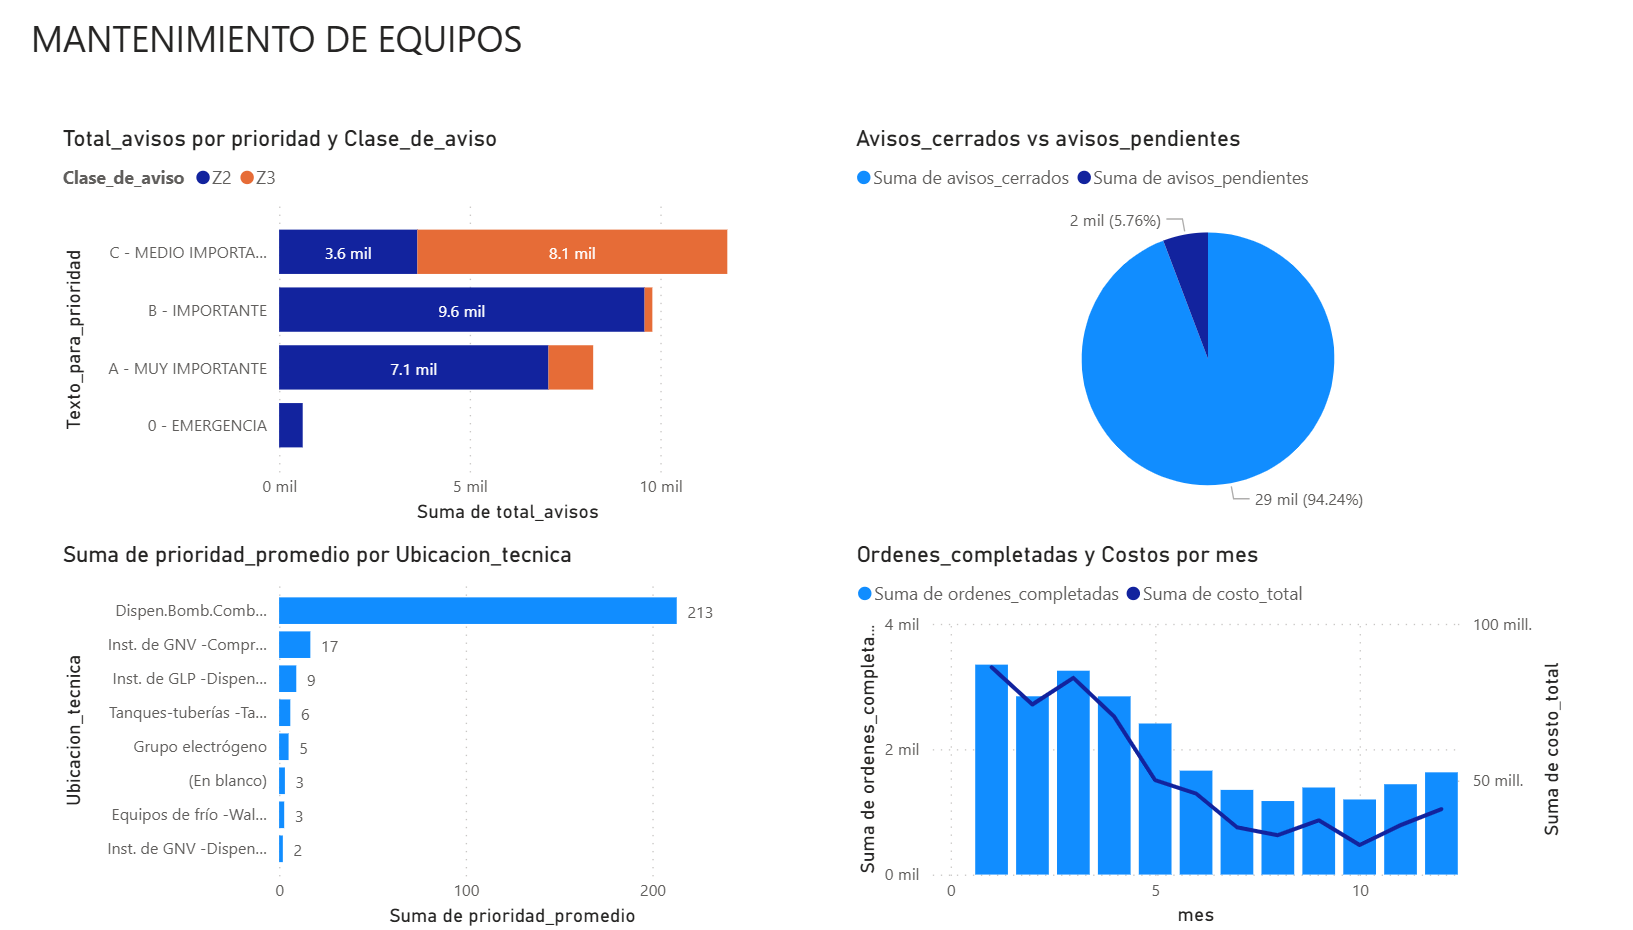

The dashboard page shown, as its layout file describes it:
{"tool":"powerbi","page":{"name":"Página 1","canvas":[1280,720],"ordinal":0},"visuals":[{"type":"barChart","title":"Total_avisos por prioridad y Clase_de_aviso","fields":{"Y":["Sum(kpi_avisos_por_tipo_prioridad.total_avisos)"],"Category":["kpi_avisos_por_tipo_prioridad.Texto_para_prioridad"],"Series":["kpi_avisos_por_tipo_prioridad.Clase_de_aviso"]},"box":[67.4,115.3,531.5,302.4],"z":0},{"type":"pieChart","title":"Avisos_cerrados vs avisos_pendientes","fields":{"Y":["Sum(kpi_mantenimiento_por_centro.avisos_cerrados)","Sum(kpi_mantenimiento_por_centro.avisos_pendientes)"]},"box":[661.2,115.2,537.5,302.4],"z":1000},{"type":"barChart","fields":{"Y":["Sum(top_equipos_mayor_mantenimiento.prioridad_promedio)"],"Category":["top_equipos_mayor_mantenimiento.Ubicacion_tecnica"]},"box":[67.1,426.6,531.3,293],"z":2000},{"type":"lineStackedColumnComboChart","title":"Ordenes_completadas y Costos por mes","fields":{"Category":["tendencia_mensual_mantenimiento.mes"],"Y":["Sum(tendencia_mensual_mantenimiento.ordenes_completadas)"],"Y2":["Sum(tendencia_mensual_mantenimiento.costo_total)"]},"box":[661.5,426.6,537.1,293],"z":3000},{"type":"textbox","box":[43.4,26.9,793.5,52.4],"z":4000}]}

Visuals, with their boxes in screenshot pixels (x1, y1, x2, y2), scaled from the page's 1280x720 canvas onto the 1633x930 screenshot:
"Total_avisos por prioridad y Clase_de_aviso" barChart: 86, 149, 764, 540
"Avisos_cerrados vs avisos_pendientes" pieChart: 844, 149, 1529, 539
barChart - Sum(top_equipos_mayor_mantenimiento.prioridad_promedio) x top_equipos_mayor_mantenimiento.Ubicacion_tecnica: 86, 551, 763, 929
"Ordenes_completadas y Costos por mes" lineStackedColumnComboChart: 844, 551, 1529, 929
textbox: 55, 35, 1068, 102
